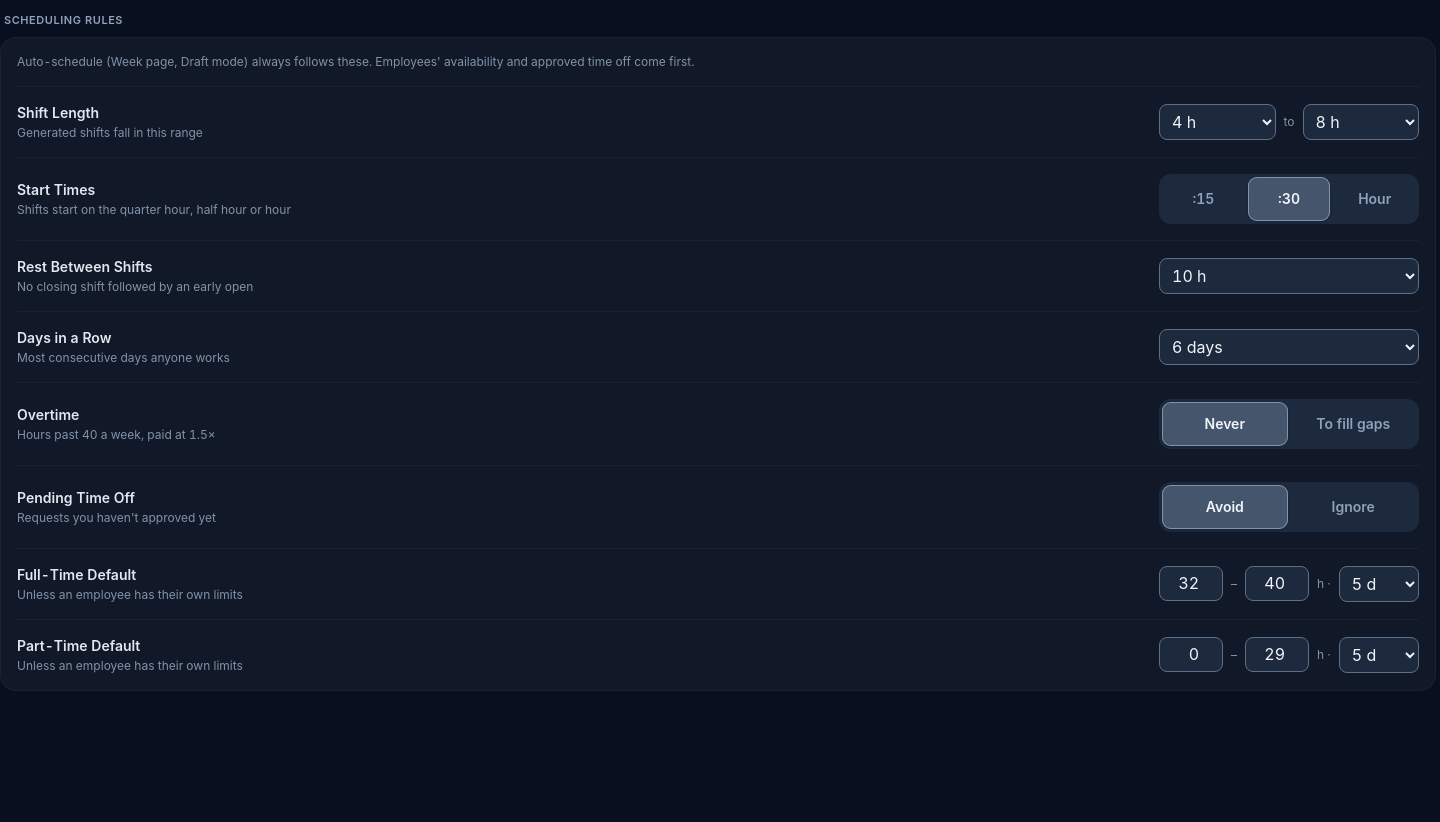
SchedulingRulesSection › refuses a minimum above the maximum without saving
The width and height of the screenshot is (1440, 822).
Replace the text in the number field named "Full-Time minimum weekly hours" with "45" at (1191, 583), box [1159,566,1223,601]
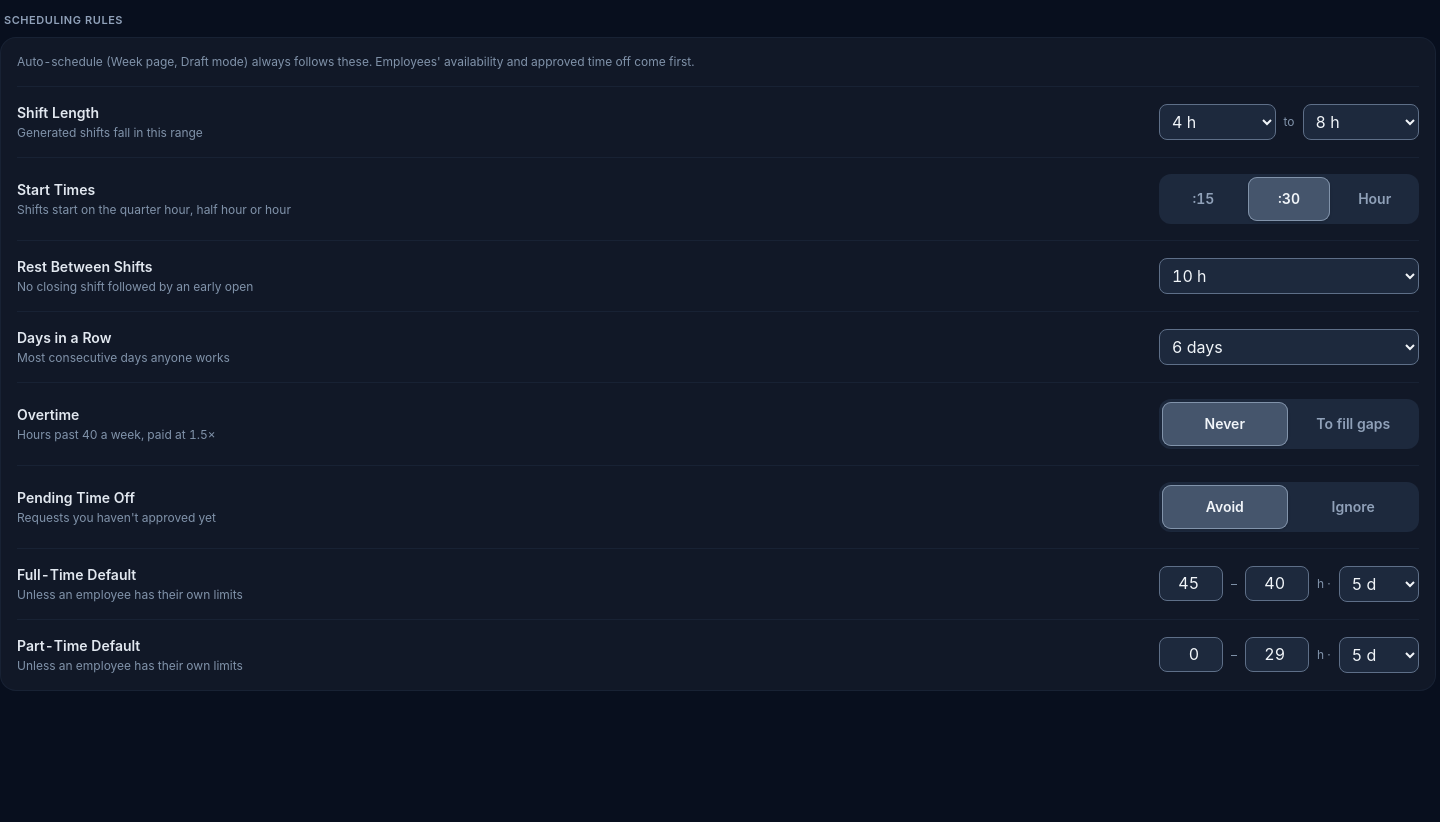
Leave the number field named "Full-Time minimum weekly hours", box [1159,566,1223,601]
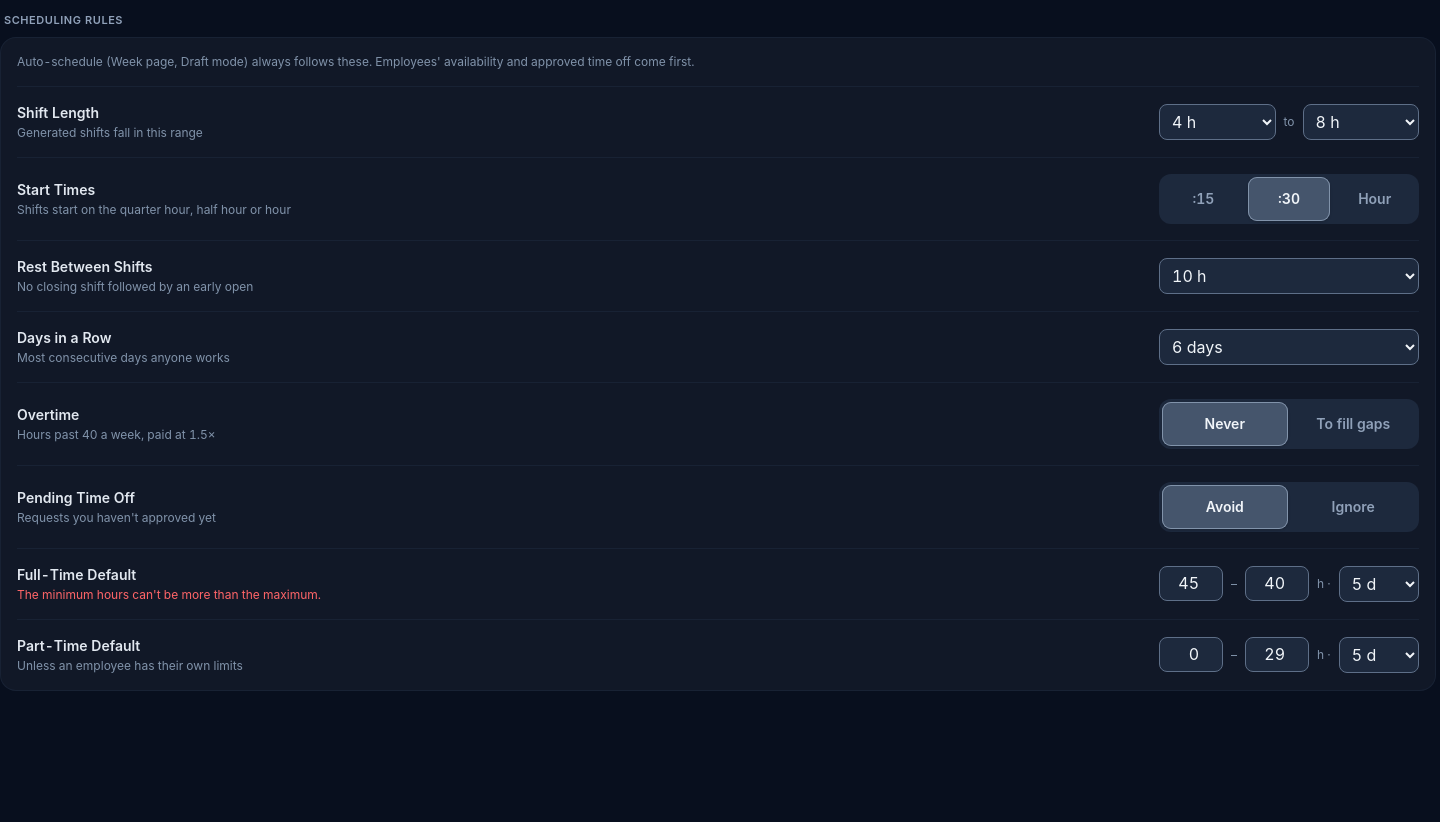
Result: the message shows "minimum hours can't be more than the maximum" at [17,586,321,602]
